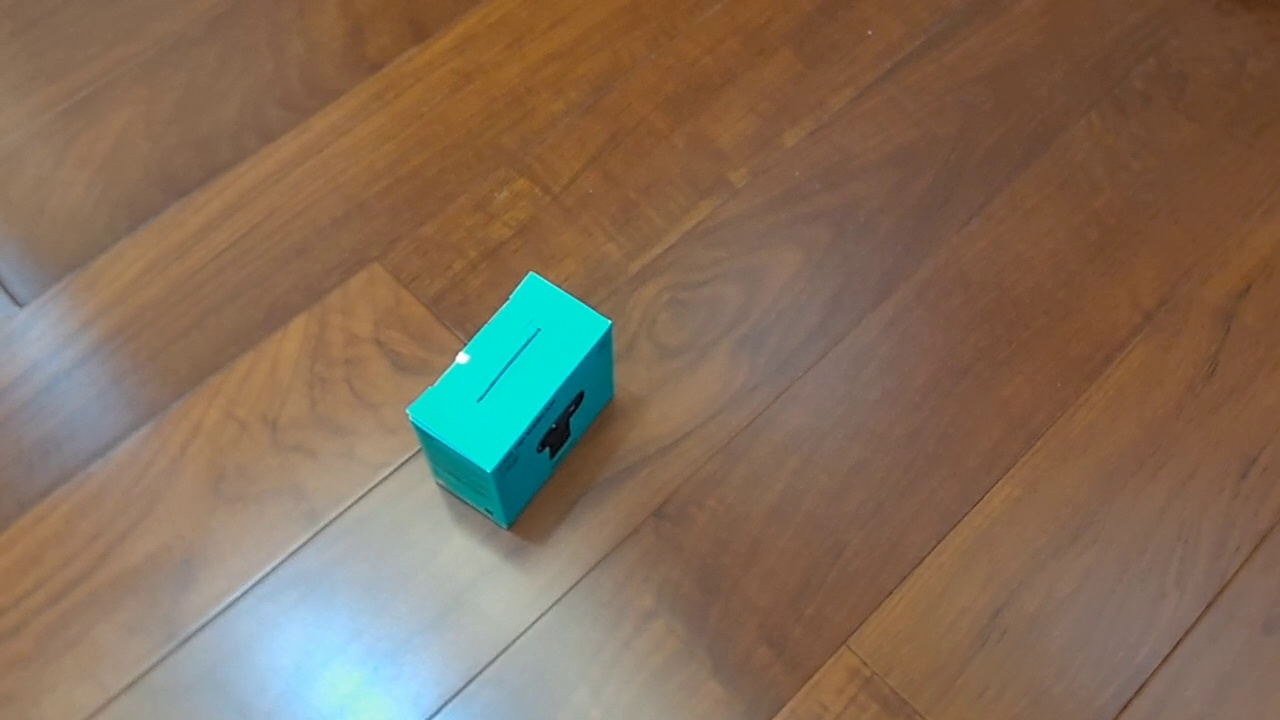webcam: (405, 269, 616, 531)
